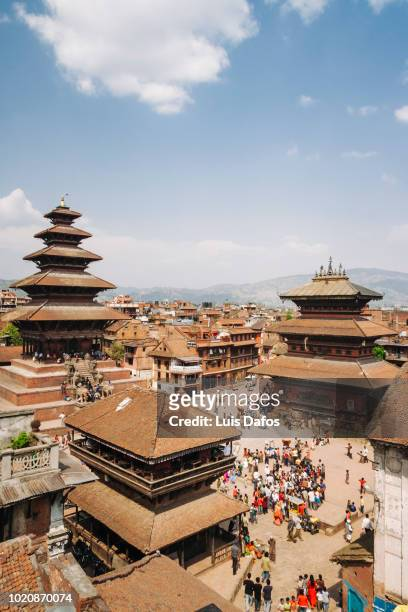nyathapola: (7, 167, 99, 434)
